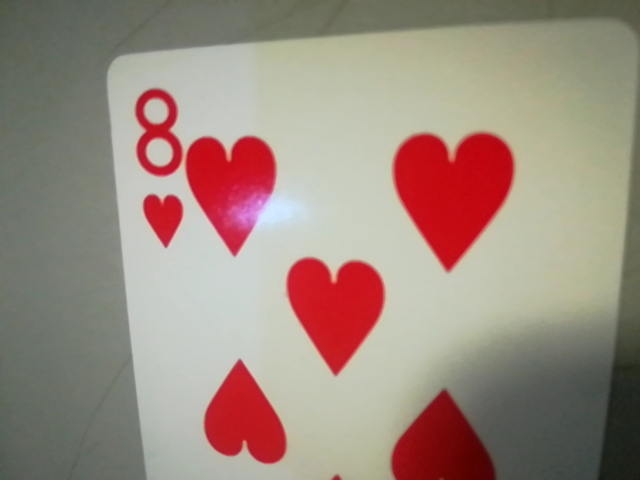hx 8: (117, 77, 190, 255)
